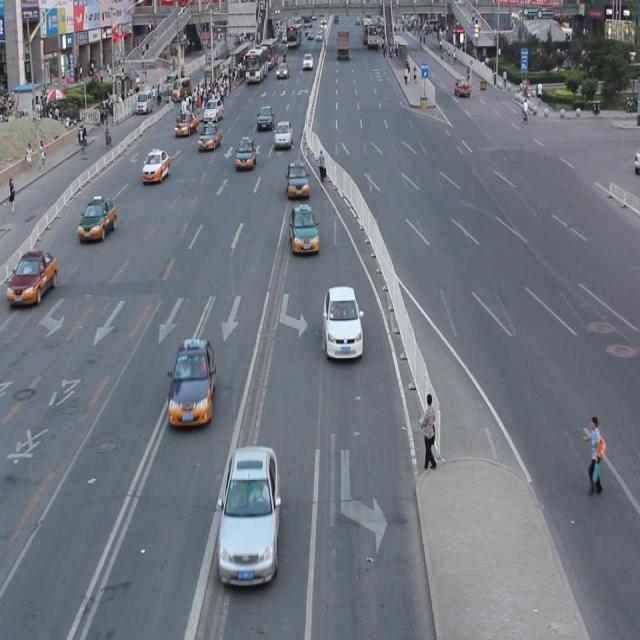car: (215, 442, 280, 586), (166, 336, 216, 427), (1, 247, 59, 306), (322, 282, 364, 359), (77, 194, 118, 244), (288, 202, 320, 255), (285, 160, 310, 200), (142, 148, 170, 183), (234, 136, 257, 170)
